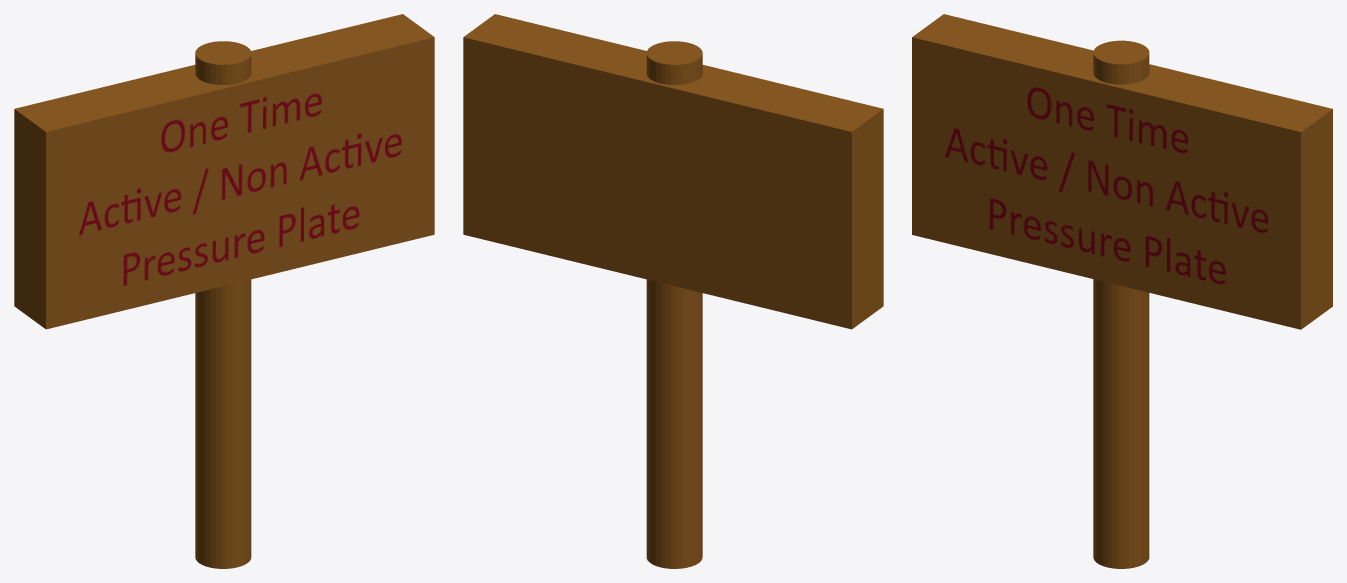
File: OneTimeActiveNonActivePressurePlateSign.fbx
3 renders of one model, left to right at view 1: azimuth 30°, elevation 25°; view 2: azimuth 150°, elevation 25°; view 3: azimuth 330°, elevation 25°, orthographic.
Parts seen in each view (by area): view 1: Cube.003, Cylinder.003; view 2: Cube.003, Cylinder.003; view 3: Cube.003, Cylinder.003.
Boxes of the visible parts, x1,y1,x2,y2 form: Cube.003: [14, 14, 434, 329]; Cylinder.003: [195, 41, 251, 568]; Cube.003: [463, 14, 883, 329]; Cylinder.003: [646, 41, 702, 568]; Cube.003: [912, 14, 1332, 329]; Cylinder.003: [1093, 40, 1149, 568].
Bounding box in the file's own units: 0.5827 × 4.12 × 5.11.
Materials: 2 (1 with a texture image).
